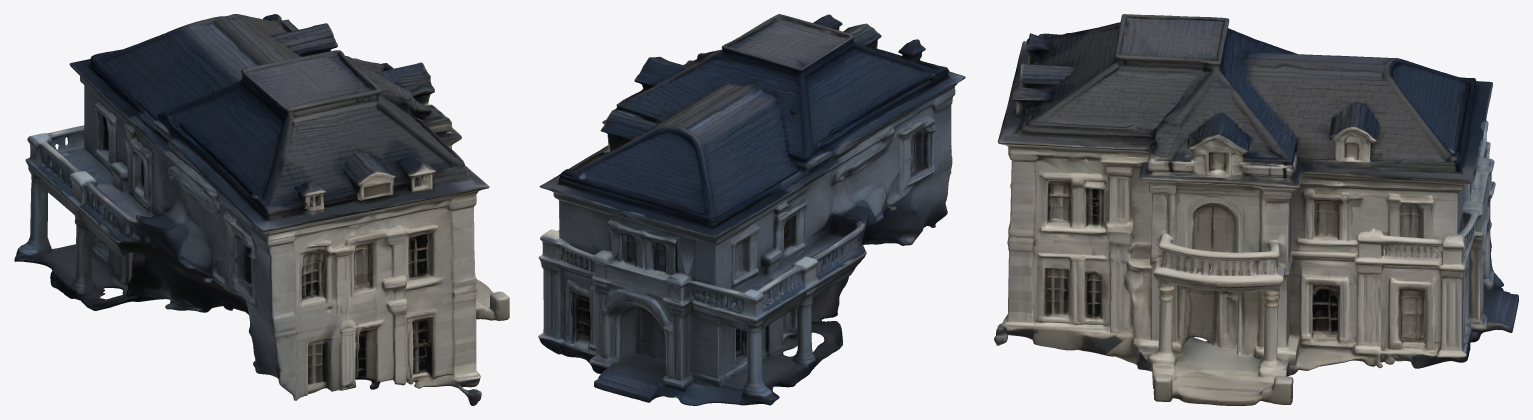
Rendered from building-mansion.glb.
3 renders of one model, left to right at view 1: azimuth 30°, elevation 25°; view 2: azimuth 150°, elevation 25°; view 3: azimuth 270°, elevation 25°, orthographic. The views are drawn at different scales.
Parts seen in each view (by area): view 1: tripo_node_c518a9e4-8eb0-4747-9649-548a3f3eaea0; view 2: tripo_node_c518a9e4-8eb0-4747-9649-548a3f3eaea0; view 3: tripo_node_c518a9e4-8eb0-4747-9649-548a3f3eaea0.
Boxes of the visible parts, box(x1,y1,x2,y2) form: tripo_node_c518a9e4-8eb0-4747-9649-548a3f3eaea0: box(14, 14, 509, 405); tripo_node_c518a9e4-8eb0-4747-9649-548a3f3eaea0: box(538, 14, 965, 405); tripo_node_c518a9e4-8eb0-4747-9649-548a3f3eaea0: box(994, 14, 1518, 405).
Bounding box in the file's own units: 17.84 × 14 × 24.06.
Materials: 1 (1 with a texture image).
